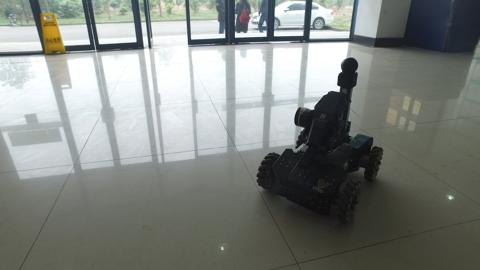car: (249, 1, 334, 30)
chariot: (255, 56, 384, 225)
